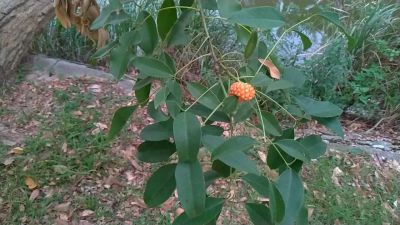eggs: (226, 80, 255, 105)
